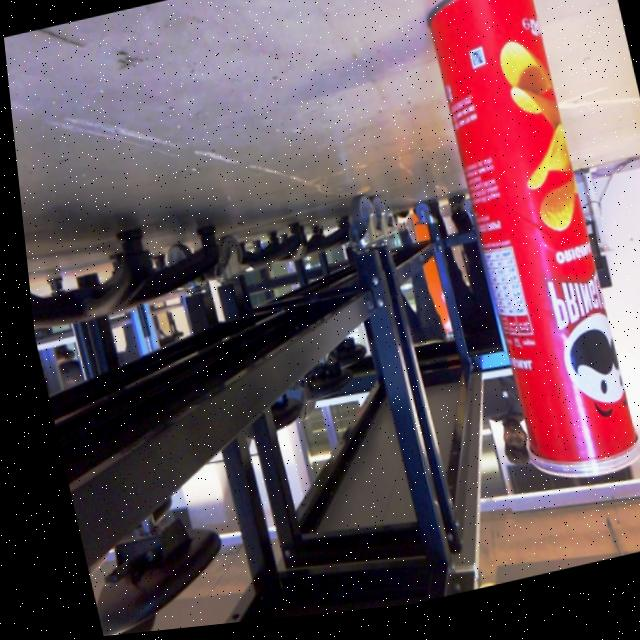redpringles: (405, 0, 640, 514)
